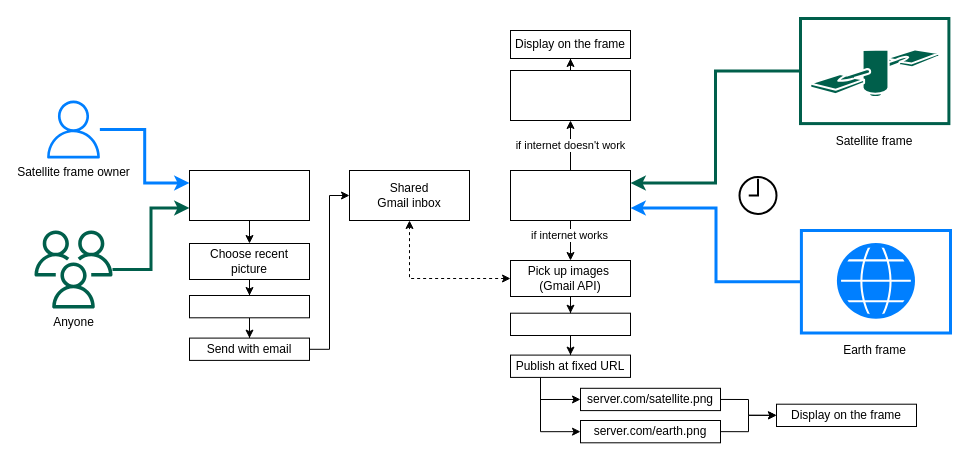
The diagram is 969 pixels wide and 461 high, and some of its shapes have lost their labels. The centre of each missing label's shape, as x and y in pixels:
Every day: the point at 757,195
iOS shortcut: the point at 249,195
Overlay text: the point at 249,306
Pick a random local image stored on the sd card: the point at 570,95
Ping Flask server (hosted on Google Cloud Run): the point at 570,195
Transform for frame: the point at 570,324
